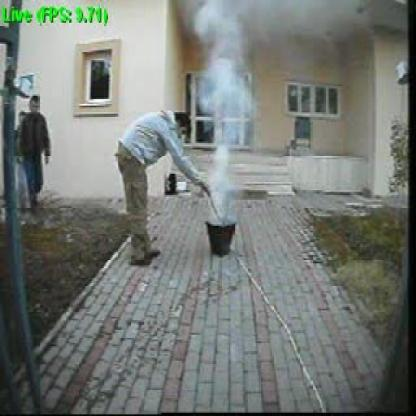Smoke: (192, 1, 252, 214)
